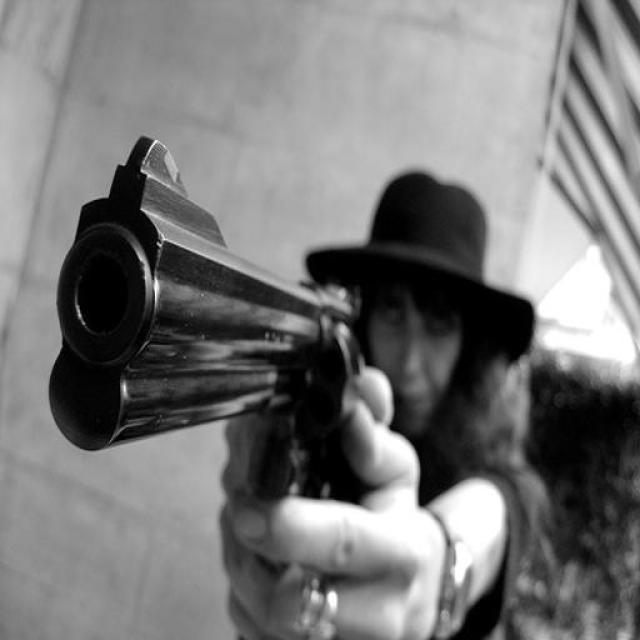pistol: (46, 122, 370, 506)
